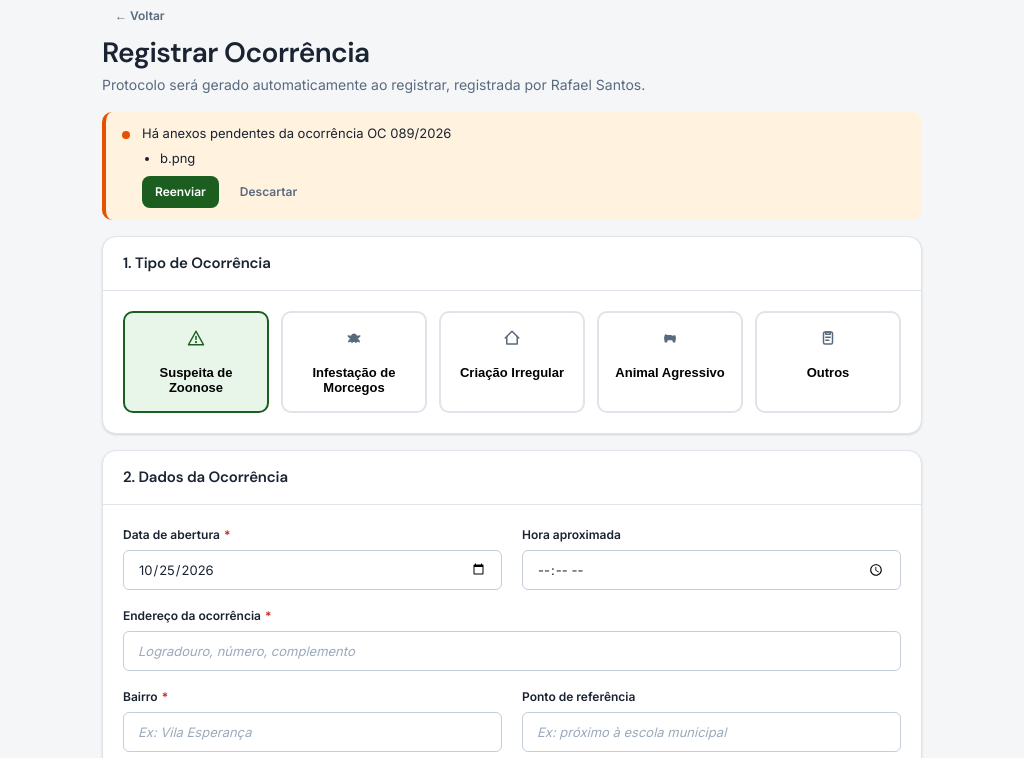
Test: aviso de anexos pendentes (D15) › 422 no reenvio (tipo detectado nos bytes): mostra a mensagem da API, explica que reenviar não resolve e deixa só "Descartar"
What coordinates should you click on to do the following:
click the button "Reenviar"
I would click on:
 (180, 192)
Its box is [142,176,219,208].
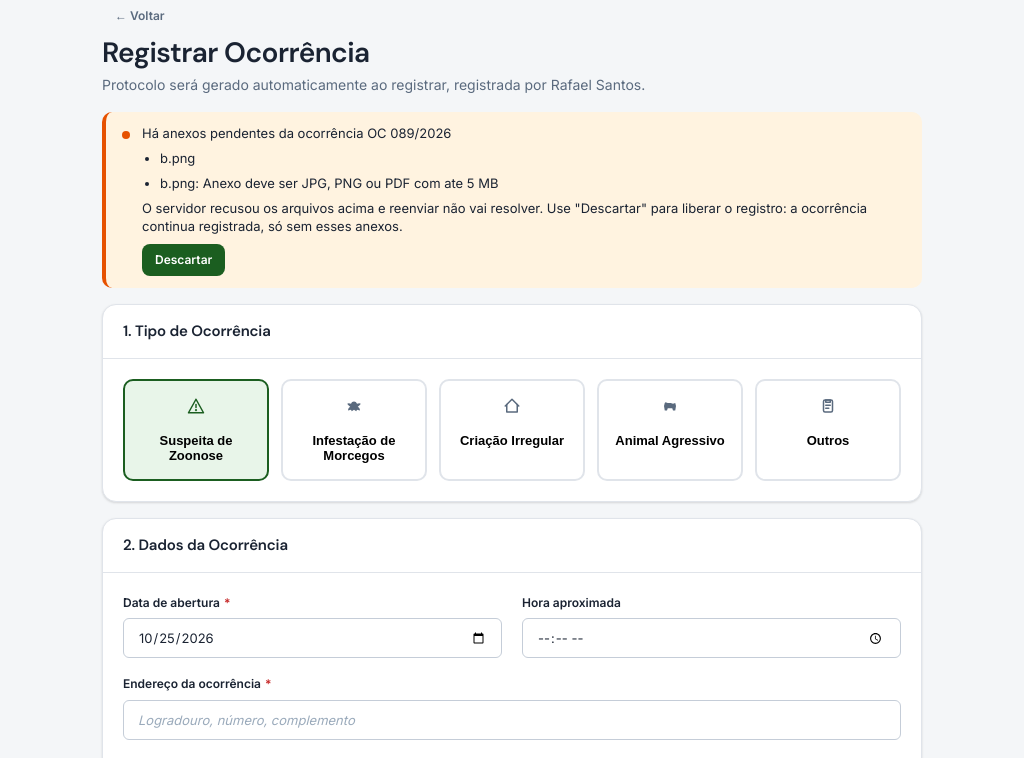
Result: the list item "b.png: Anexo deve ser JPG, PNG ou PDF com ate 5 MB" is shown at [160,175,498,191]
Result: the text "reenviar não vai resolver" is shown at [142,200,867,234]
What coordinates should you click on to do the following:
click the button "Descartar"
I would click on:
 (184, 260)
Its box is [142,244,225,276].
(page scrolled)
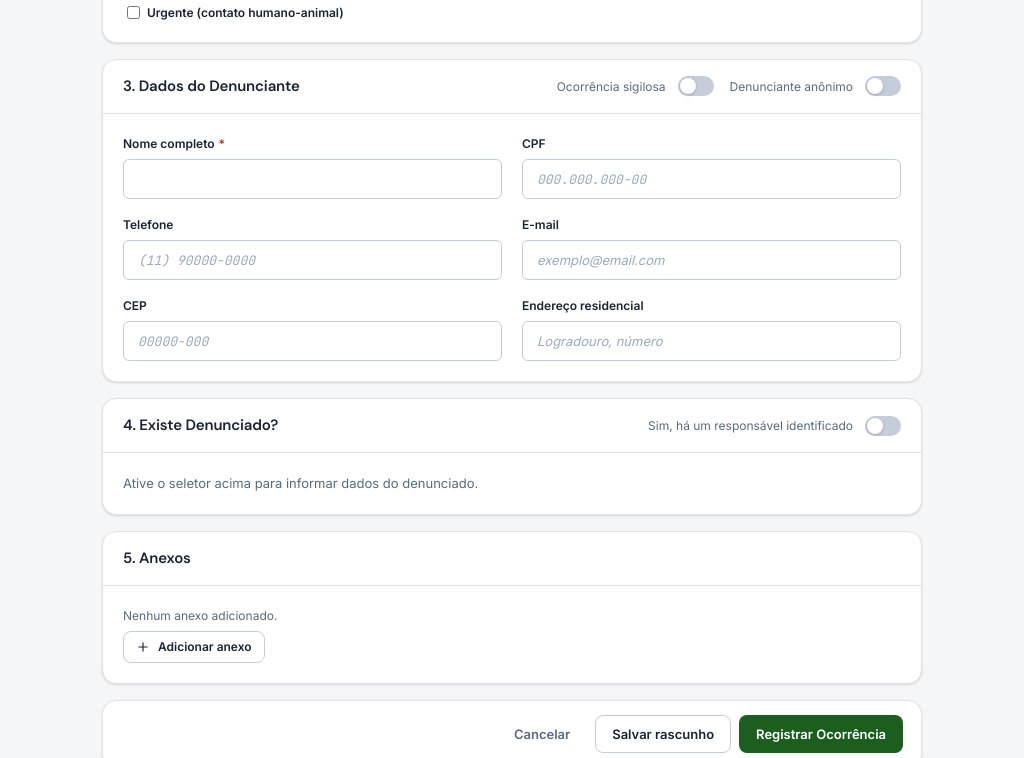
Result: the text "Há anexos pendentes" is gone
Result: the button "Registrar Ocorrência" is enabled at [739,716,903,754]
